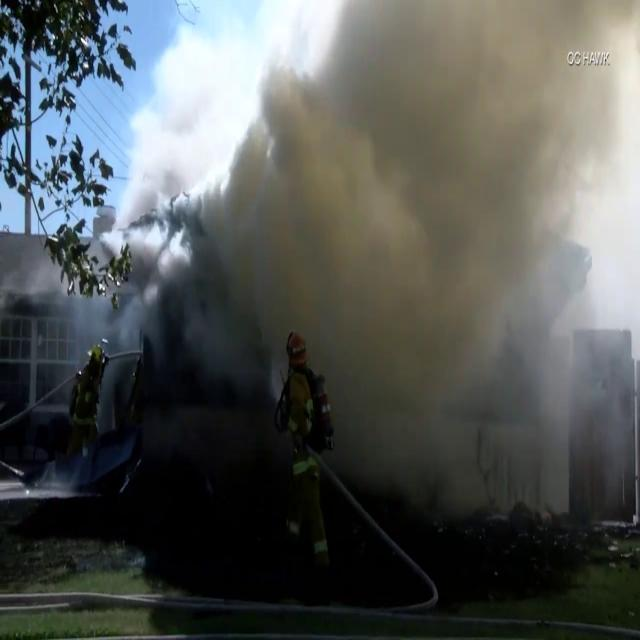Smoke: (76, 0, 638, 476)
